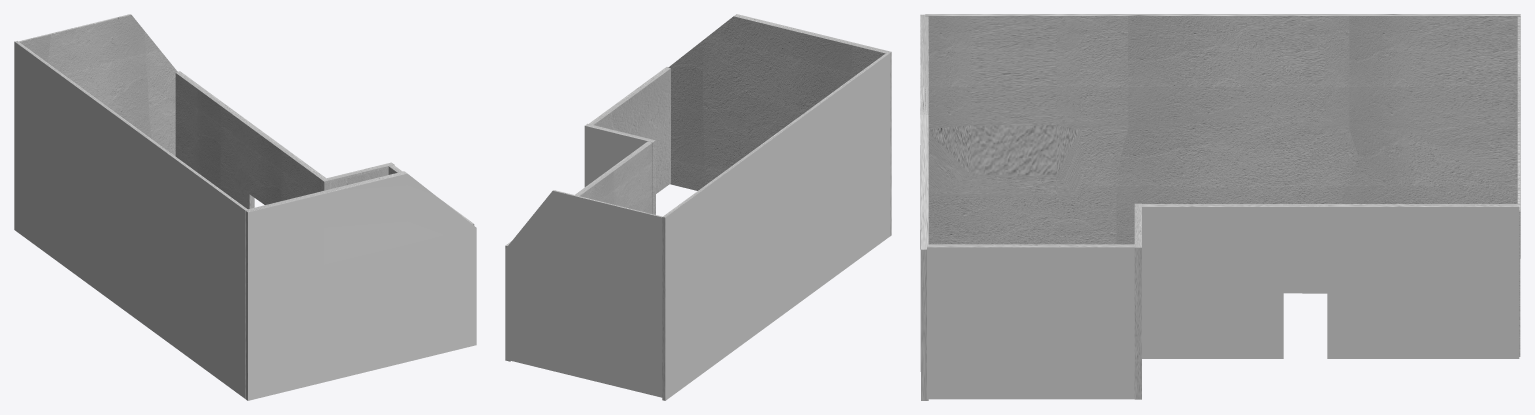
The model's file is LibraryShellLastTry.fbx.
3 views of the same model, side by side, from view 1: azimuth 30°, elevation 25°; view 2: azimuth 150°, elevation 25°; view 3: azimuth 270°, elevation 25° (orthographic). The views are drawn at different scales.
Visible parts, largest first — view 1: Cube.044; view 2: Cube.044; view 3: Cube.044.
Boxes of the visible parts, x1,y1,x2,y2 form: Cube.044: [14, 14, 476, 400]; Cube.044: [505, 14, 891, 400]; Cube.044: [920, 14, 1520, 400].
Size of the model in its own units: 2467 by 1937 by 4333.
